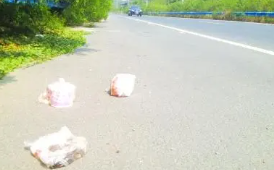garbage: (10, 128, 93, 167), (41, 77, 82, 109), (101, 74, 132, 101)
